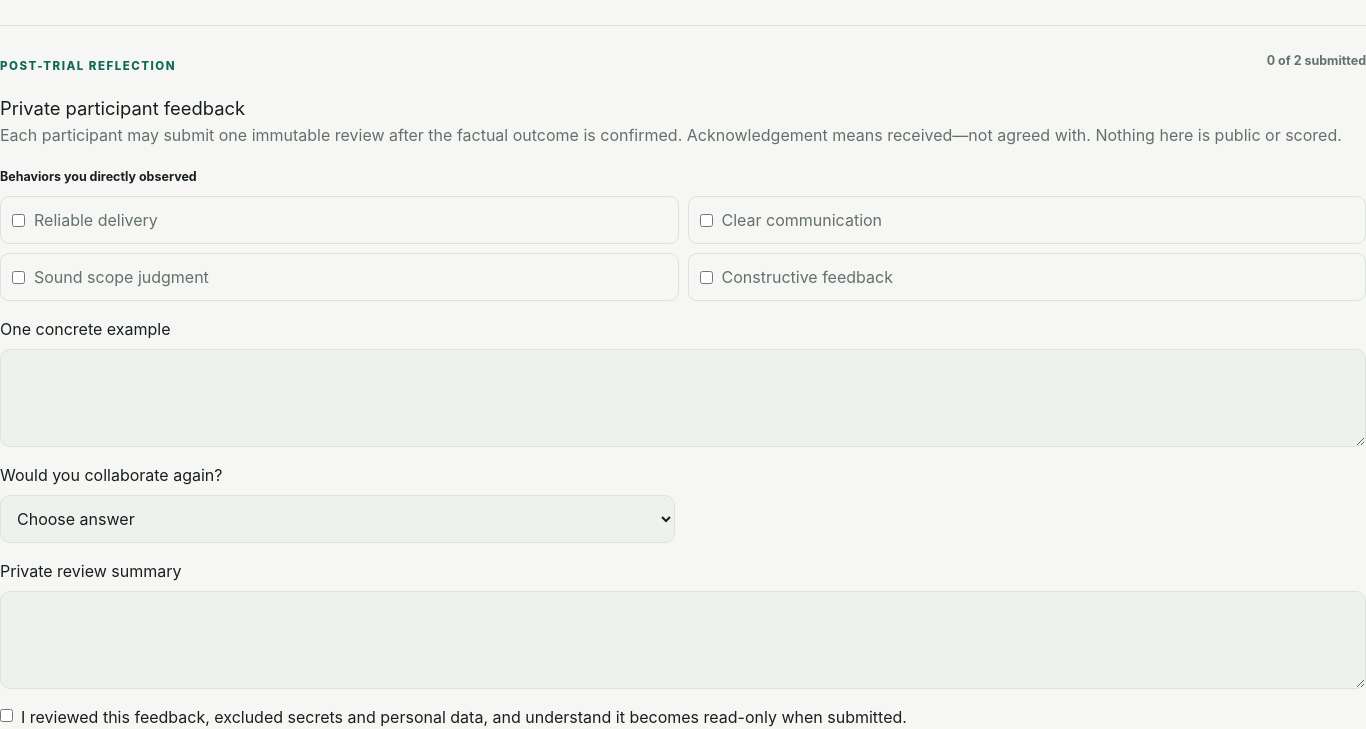
Scenario: TrialFeedbackPanel › submits one immutable private review
Click the checkbox labelled "Reliable delivery" at (18, 220), box [12, 214, 25, 227]
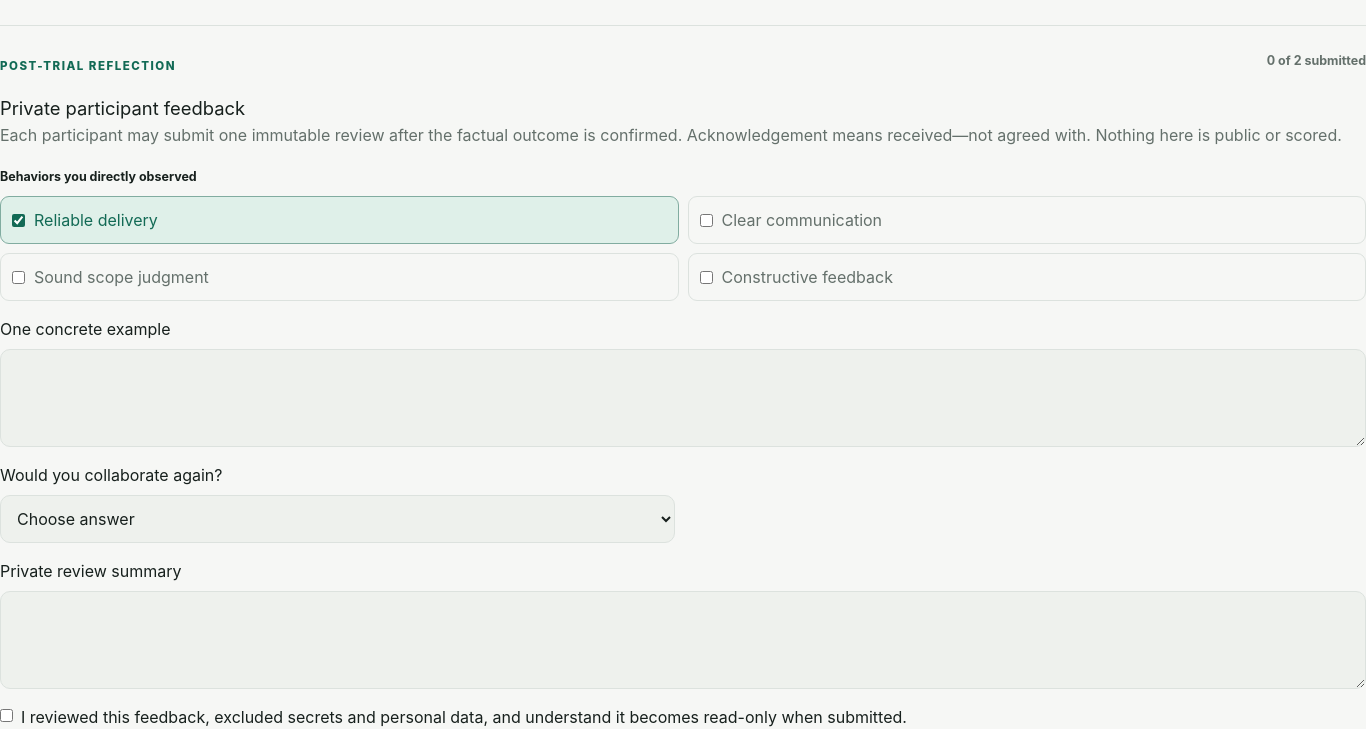
Click the checkbox labelled "Clear communication" at (706, 220), box [700, 214, 712, 227]
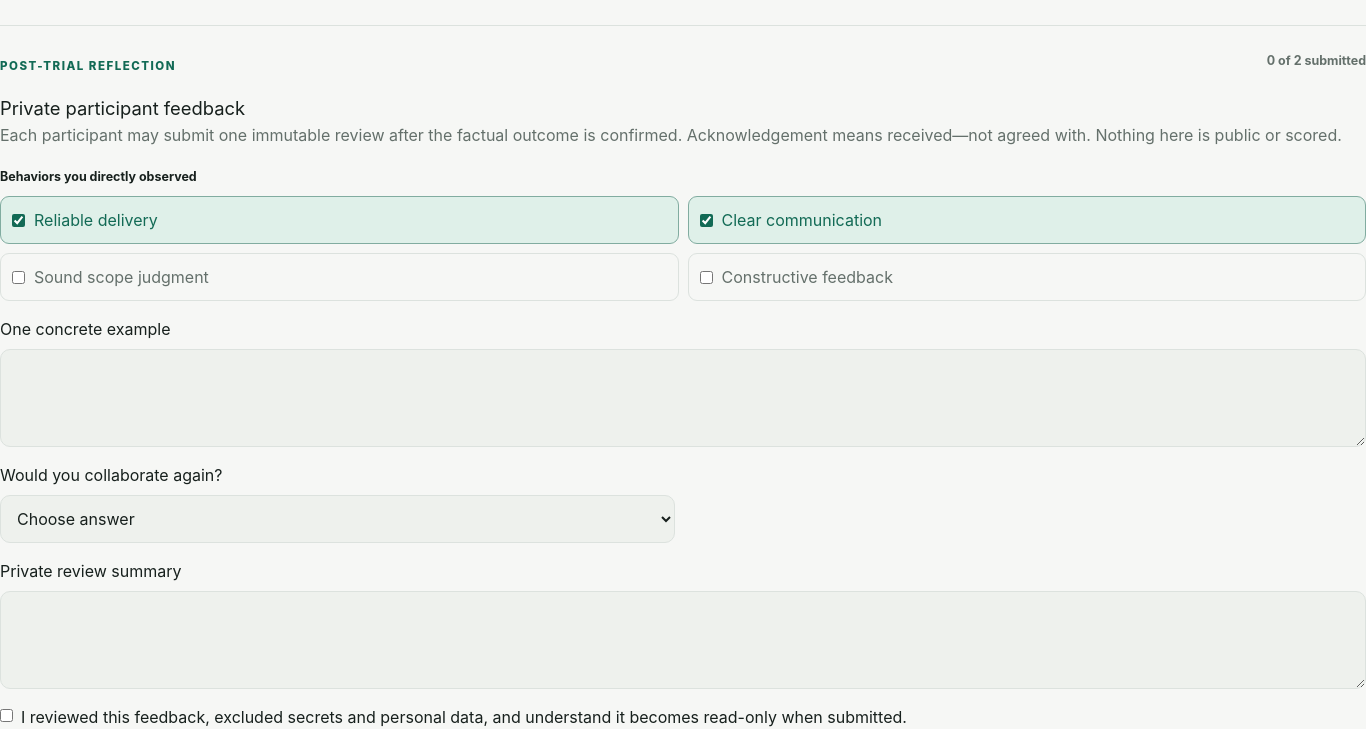
Type "They surfaced a blocker early and delivered the revised milestone on the agreed date." into the text box labelled "One concrete example" at (683, 398), box [0, 349, 1365, 447]
Select "Yes" in the dropdown labelled "Would you collaborate again?" at (338, 519), box [0, 495, 675, 543]
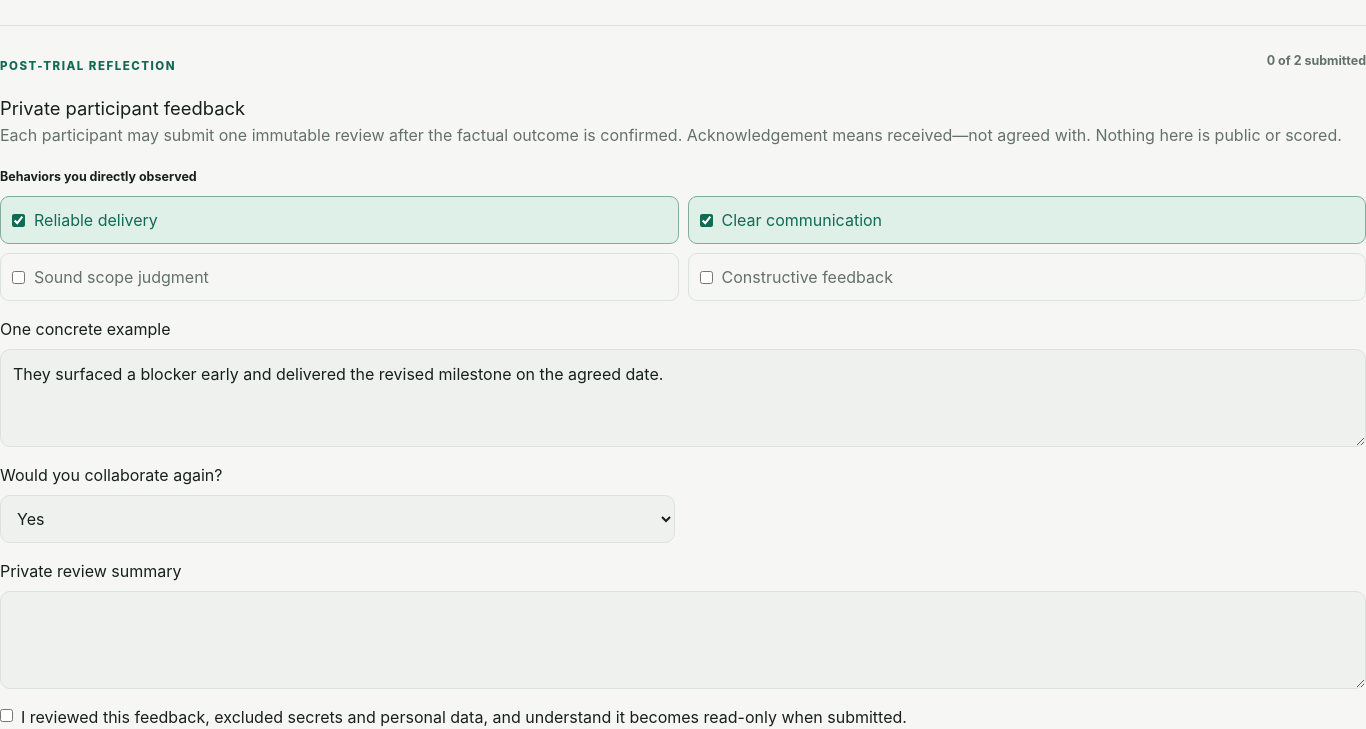
Type "A dependable collaborator who communicated tradeoffs clearly throughout the bounded trial." into the text box labelled "Private review summary" at (683, 640), box [0, 591, 1365, 689]
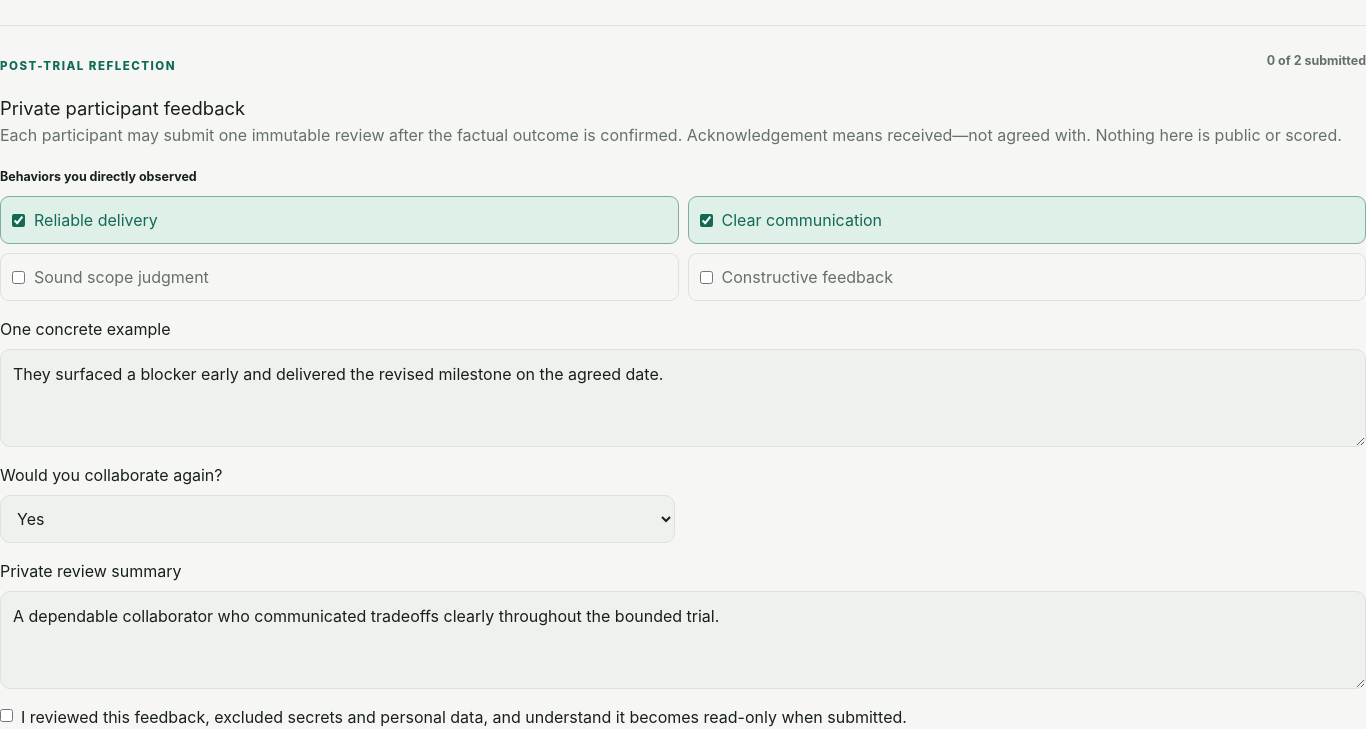
Click the checkbox named "becomes read-only" at (6, 716), box [0, 709, 13, 722]
(page scrolled)
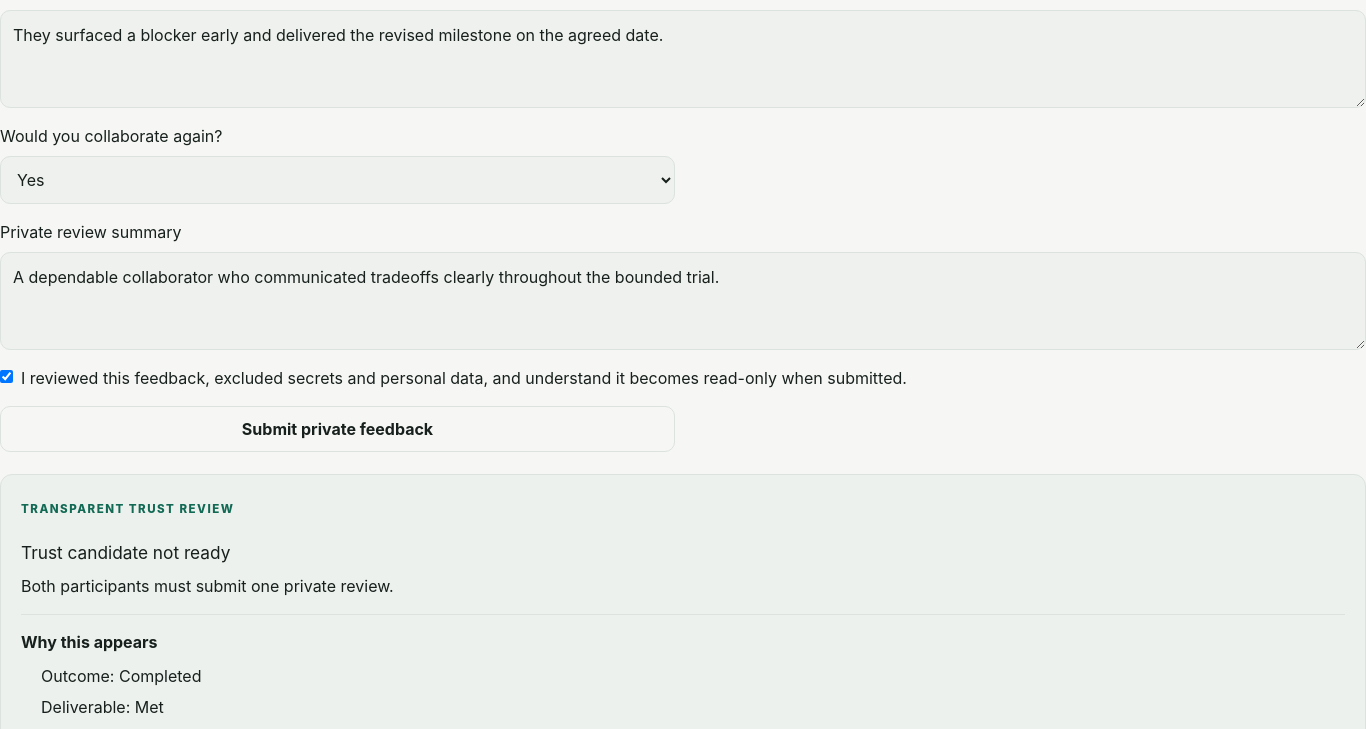
Click the button "Submit private feedback" at (338, 429), box [0, 406, 675, 452]
(page scrolled)
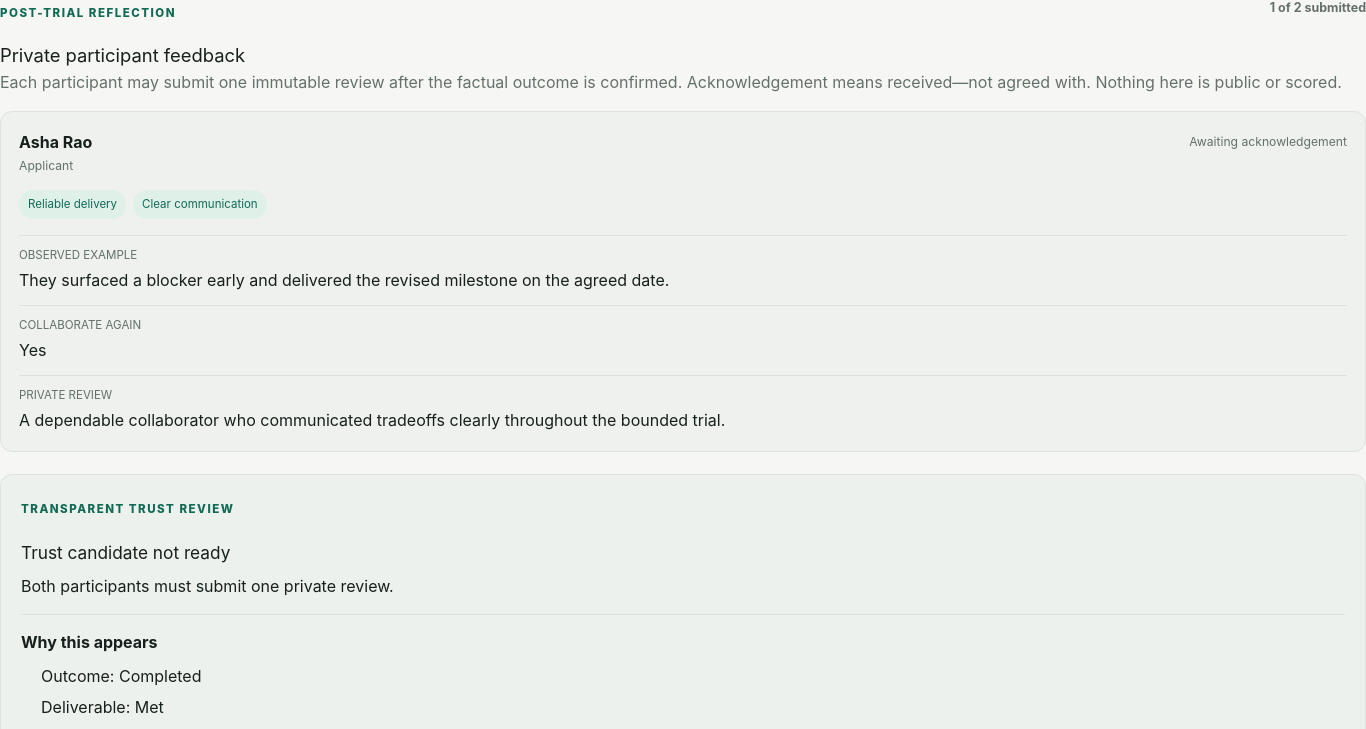
Expected: the text "Awaiting acknowledgement" is shown, [1189, 134, 1347, 152]
